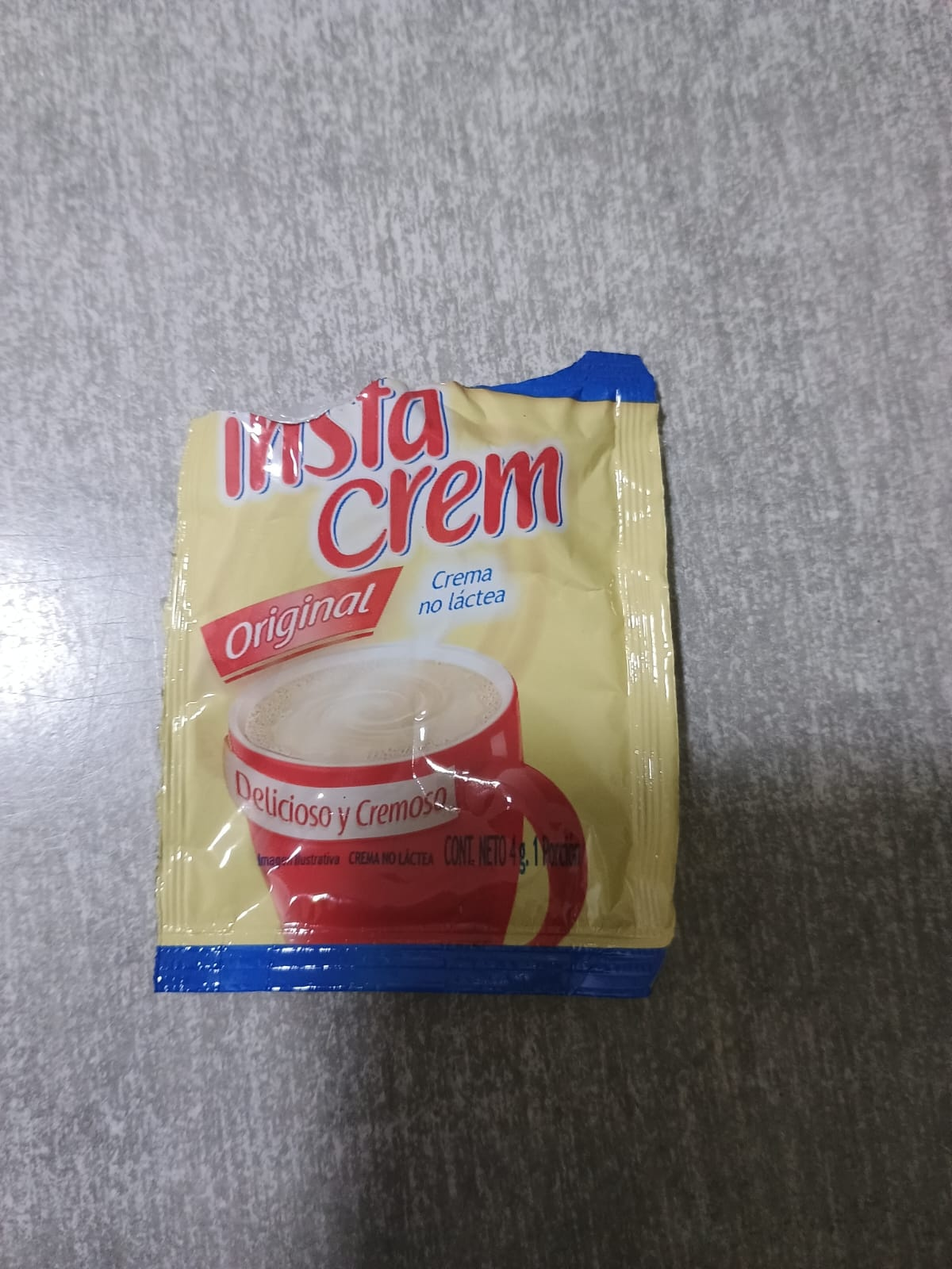Ordinario: (150, 349, 689, 995)
